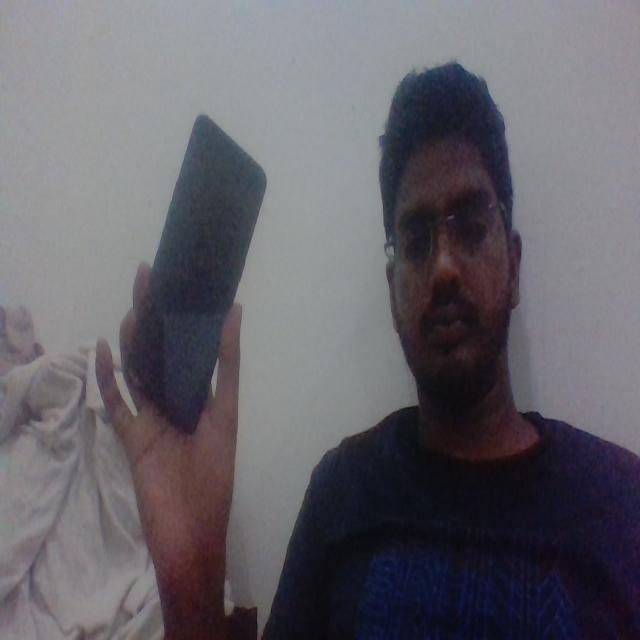Phone: (122, 109, 271, 439)
